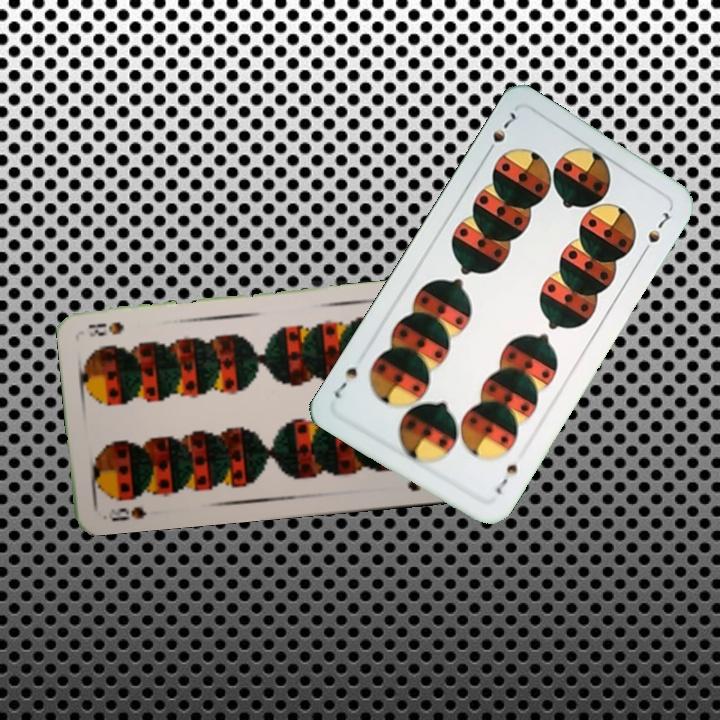S7: (481, 108, 519, 159), (491, 459, 521, 497)
S8: (99, 502, 149, 524)
